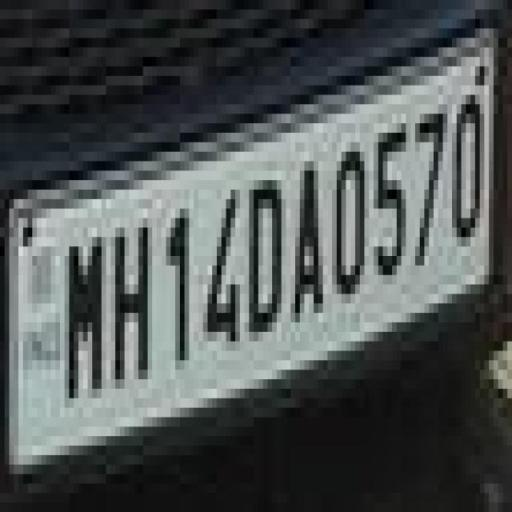number plate: (0, 123, 498, 417)
